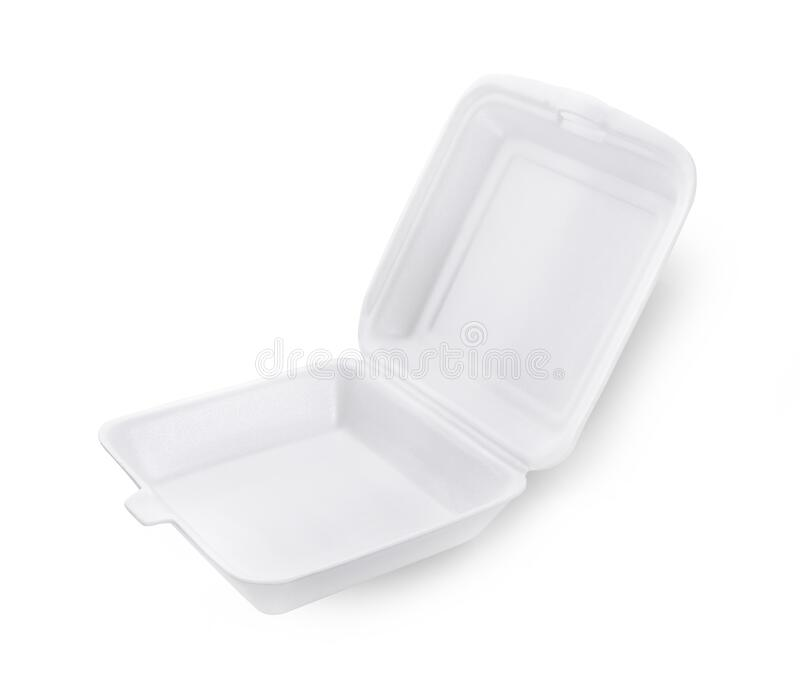Foam Box: (87, 69, 700, 621)
